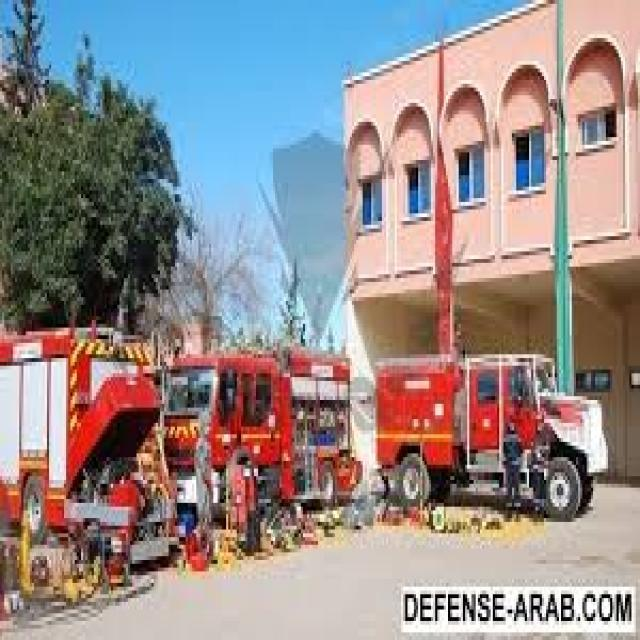emergency: (376, 324, 610, 538)
